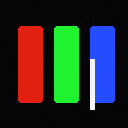4 line_v: (90, 59, 94, 109)
